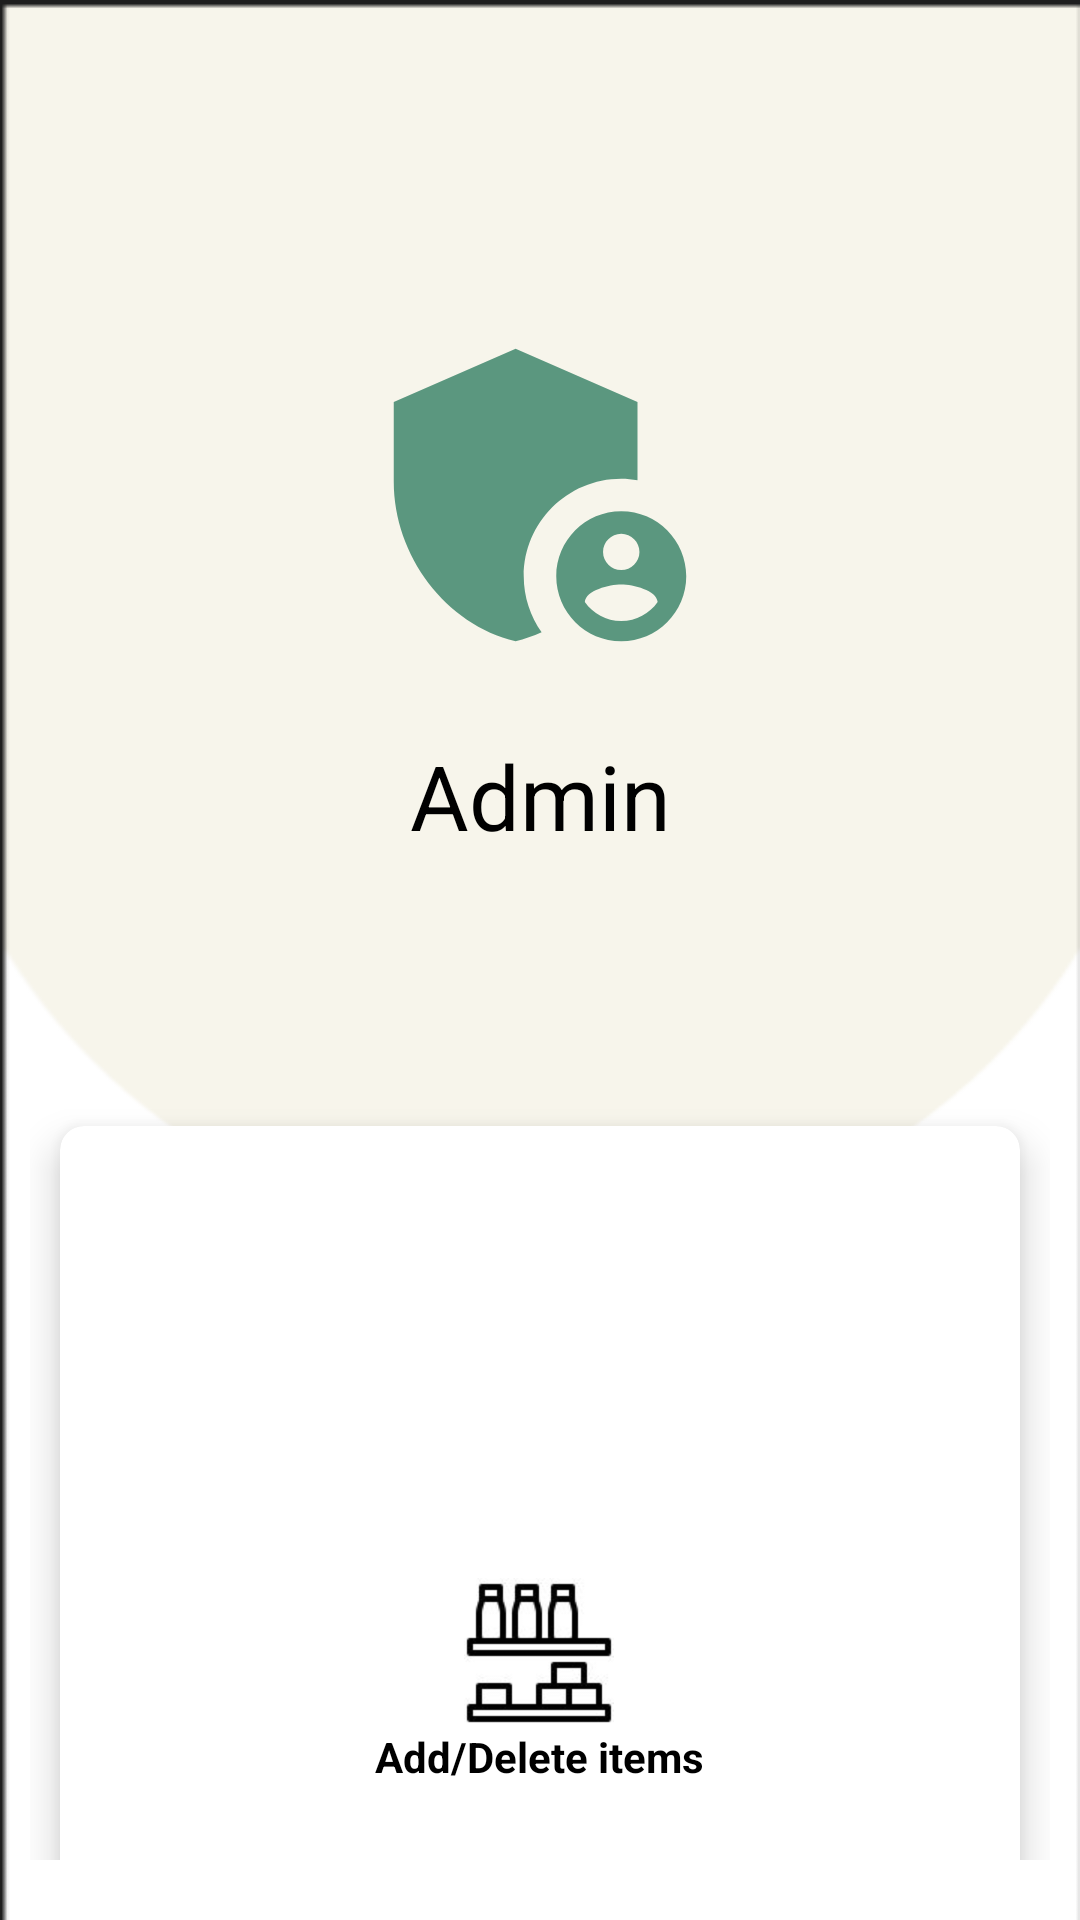

Icon bounding boxes for this 1080×1920 phone screenshot, format (x1, y1, x2, y2):
shelf: (466, 1583, 612, 1723)
